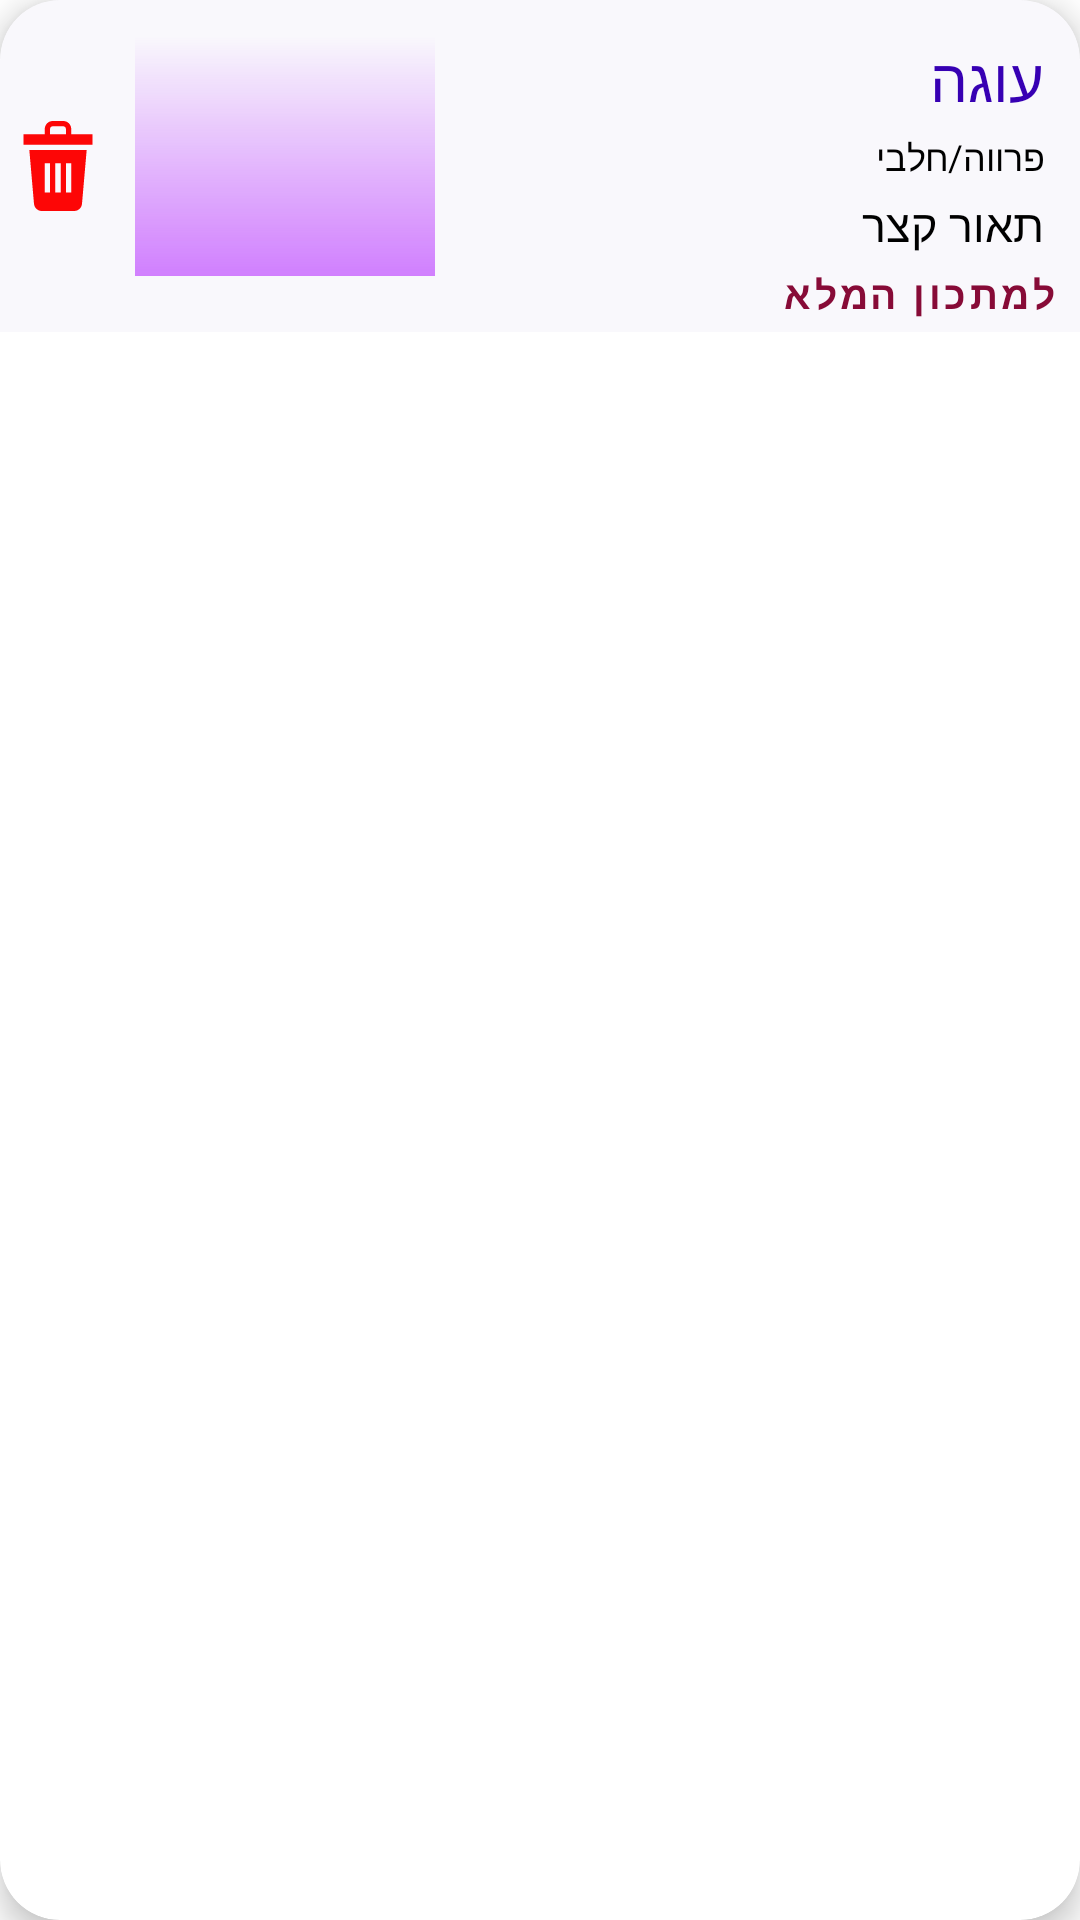

Named icons in this screenshot (1080px x 1920px) and their bounding boxes, (x1, y1, x2, y2):
remove: (23, 121, 93, 211)
